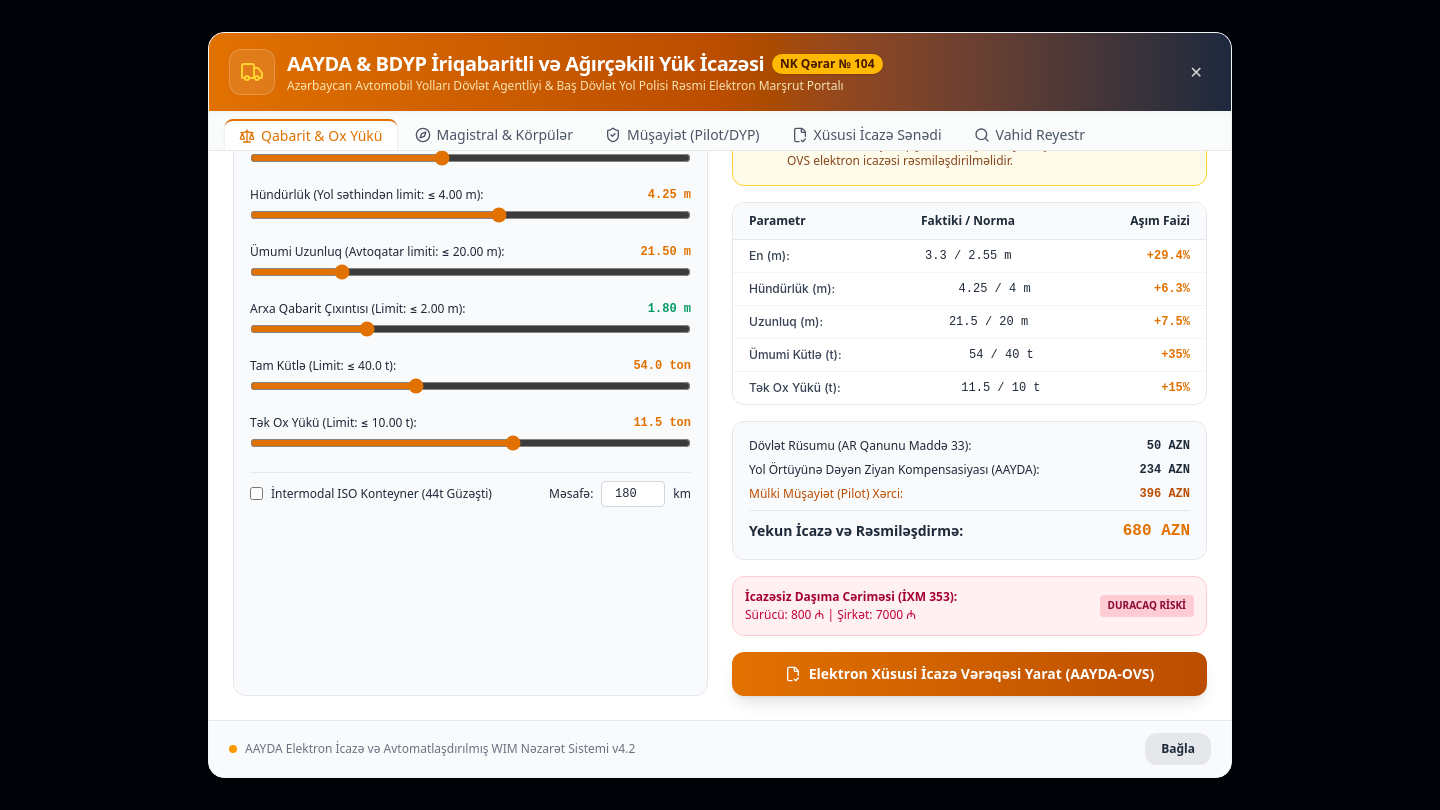
Scenario: OversizePermitModal Component › generates new voucher and transitions to voucher tab when button clicked
The image size is (1440, 810).
(page scrolled)
Click the button "Elektron Xüsusi İcazə Vərəqəsi Yarat (AAYDA-OVS)" at (970, 674), box [732,652,1207,696]
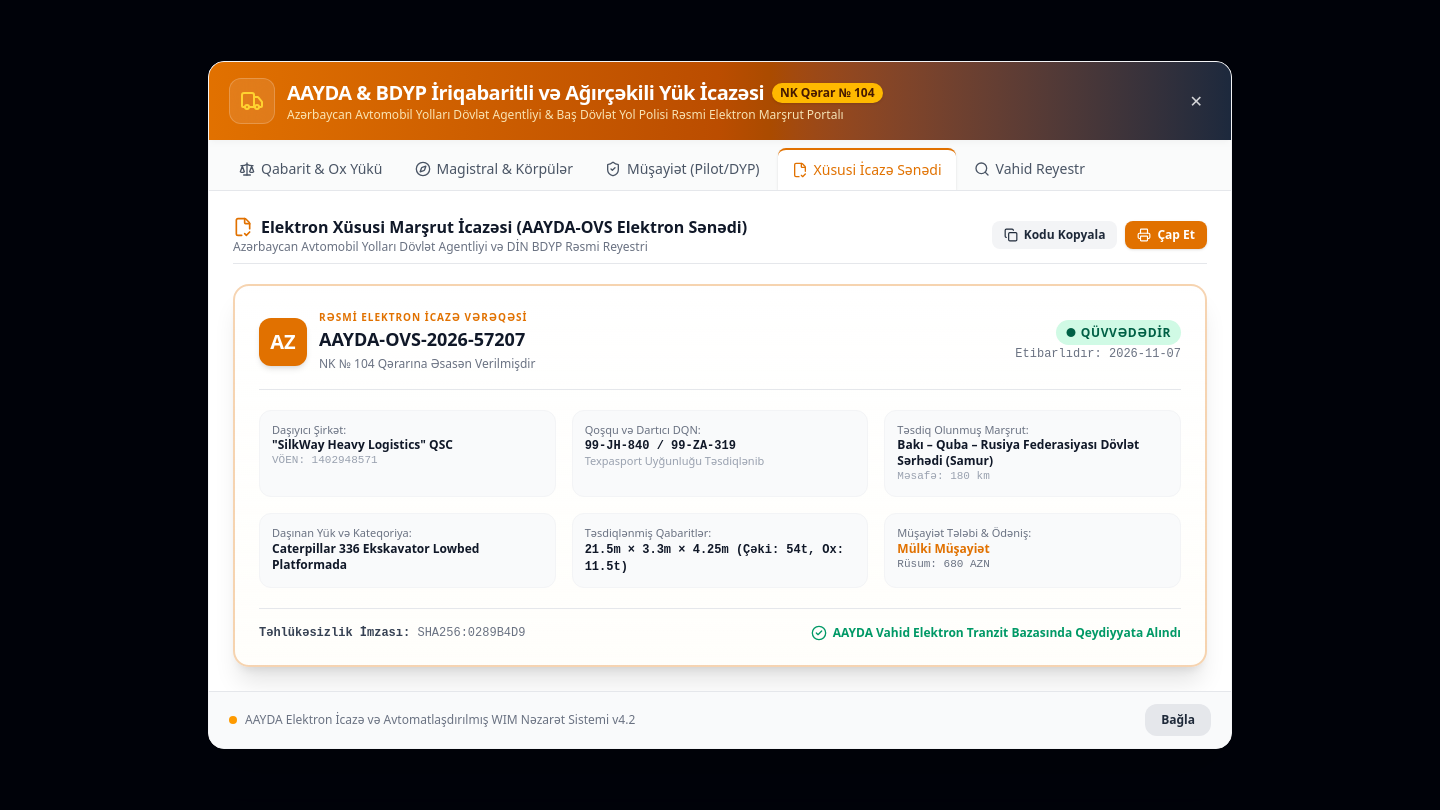
Now the text "RƏSMİ ELEKTRON İCAZƏ VƏRƏQƏSİ" is shown, box [319,310,535,325]
Now the text "● QÜVVƏDƏDİR" is shown, box [1056,320,1181,344]
